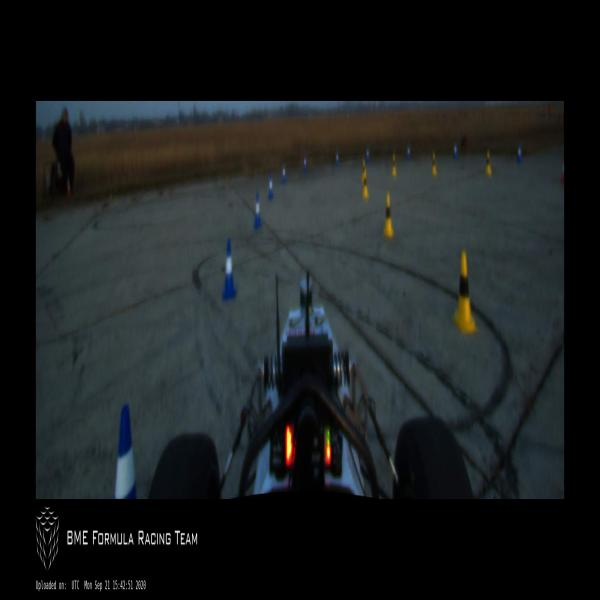blue_cone: (115, 406, 137, 498), (222, 239, 235, 300), (254, 193, 261, 228), (268, 175, 274, 199), (281, 165, 286, 185), (517, 143, 522, 163), (303, 155, 307, 172), (453, 142, 457, 159), (366, 147, 370, 163), (406, 146, 410, 162), (335, 151, 339, 166)
yellow_cone: (451, 250, 479, 334), (384, 193, 393, 237), (362, 172, 368, 198), (486, 150, 492, 176), (361, 157, 365, 182), (432, 154, 436, 175), (392, 156, 396, 176)
